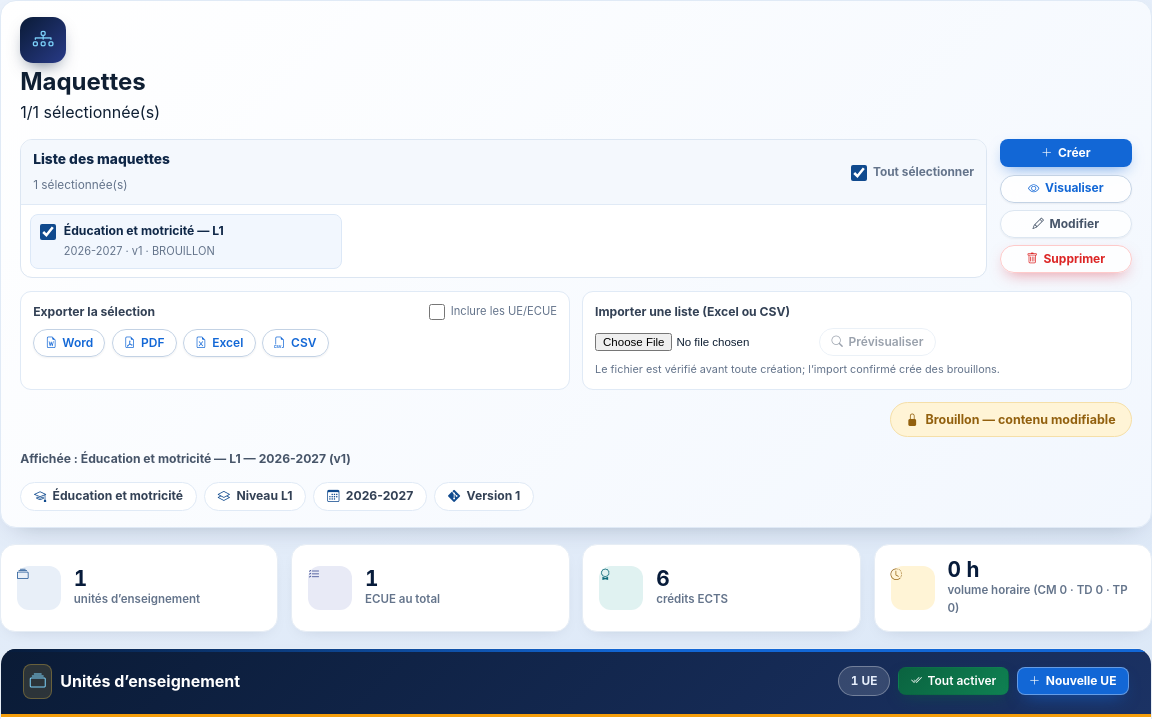
Test: affichage et lecture › active toutes les UE et tous les ECUE de la maquette affichée dans l’ordre métier
Click the button with test id "activer-toute-maquette" at (954,681), box x1=898 y1=667 x2=1009 y2=695
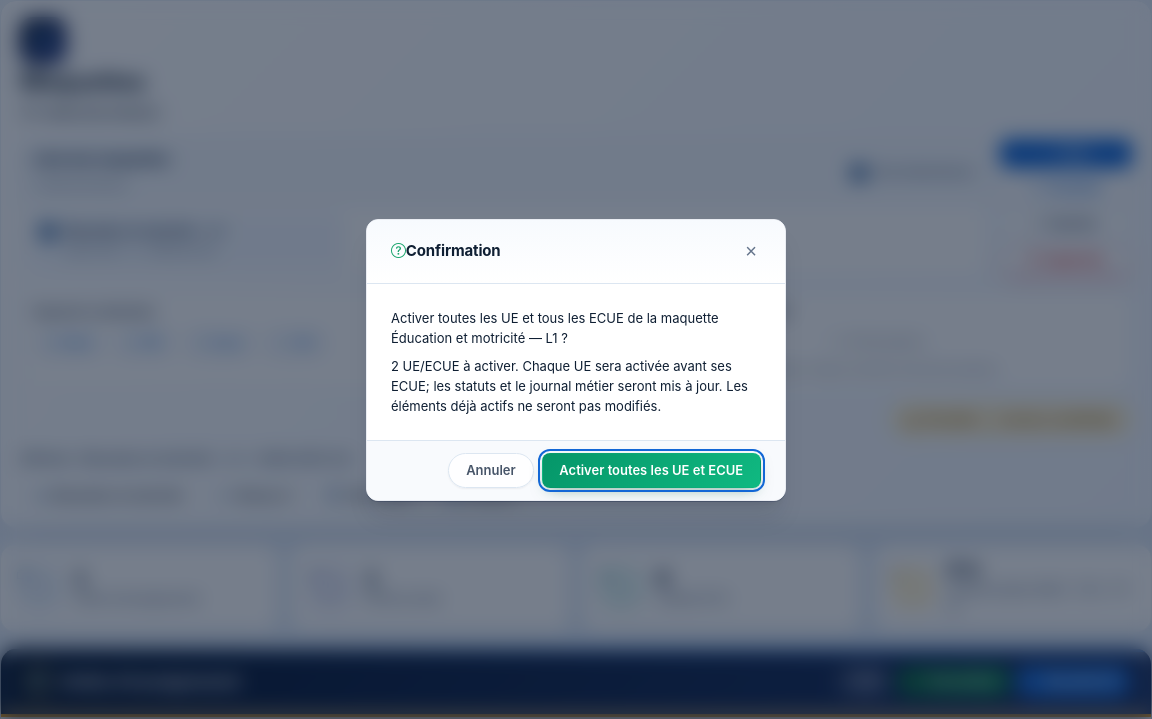
Expected: the text "Activer toutes les UE et tous les ECUE de la maquette" is shown, x1=391 y1=310 x2=719 y2=346
Click the button "Activer toutes les UE et ECUE" at (651,471), box x1=542 y1=453 x2=761 y2=488
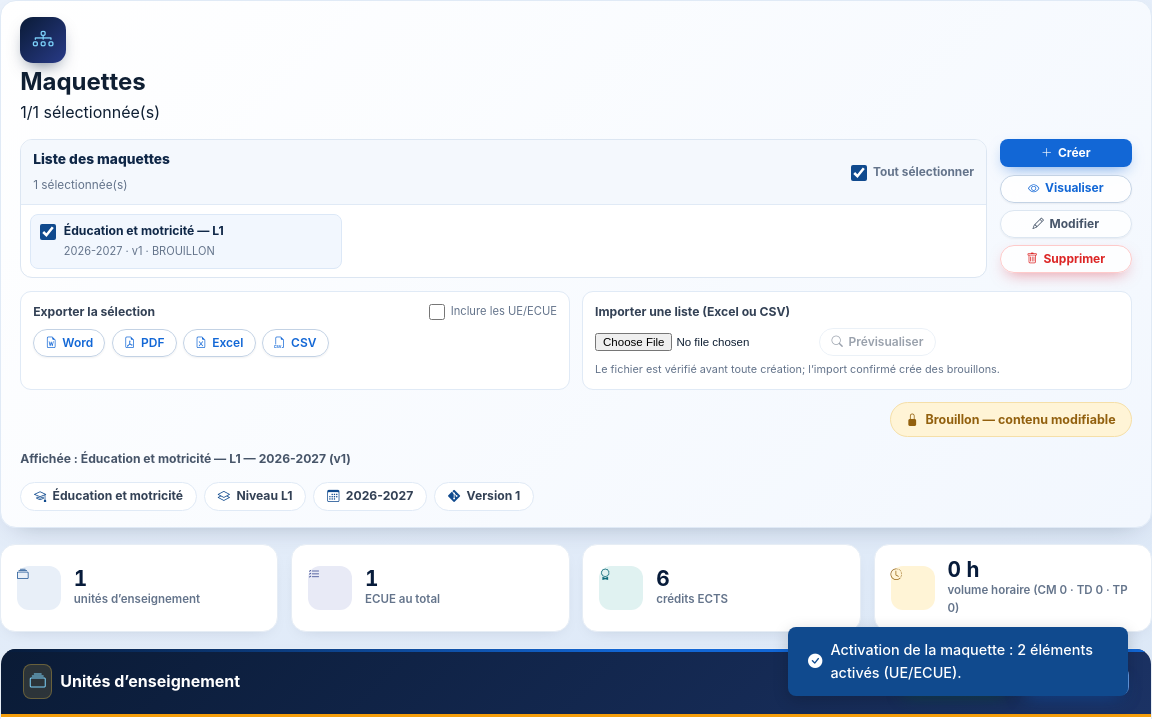
Expected: the text "Activation de la maquette : 2 éléments activés (UE/ECUE)." is shown, x1=788 y1=627 x2=1128 y2=696
